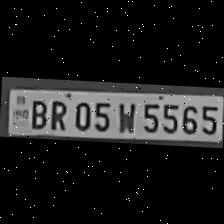0: (69, 98, 91, 131)
5: (90, 98, 114, 132), (138, 99, 160, 133), (198, 102, 220, 134), (159, 100, 179, 134)
6: (178, 102, 198, 134)
B: (26, 97, 48, 129)
R: (47, 97, 70, 131)
W: (114, 98, 136, 134)
